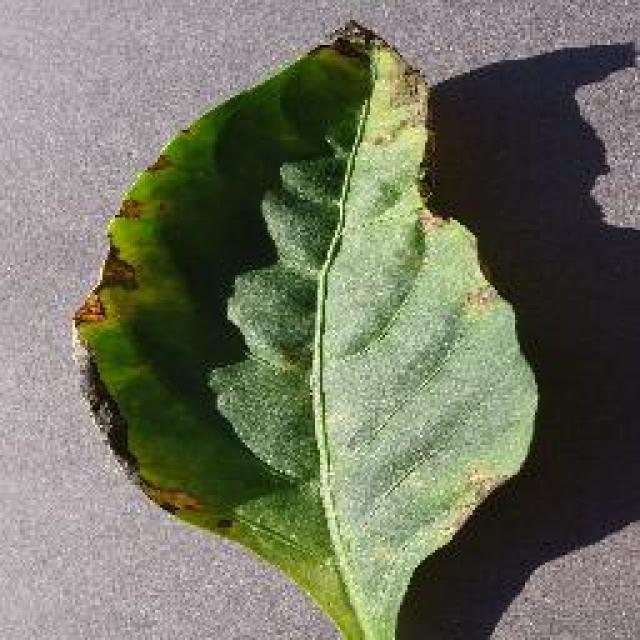Chilli_Bacterial_Spot: (68, 18, 542, 638), (95, 243, 140, 295), (70, 288, 110, 328), (325, 30, 370, 62), (115, 192, 147, 222), (143, 150, 175, 178)
